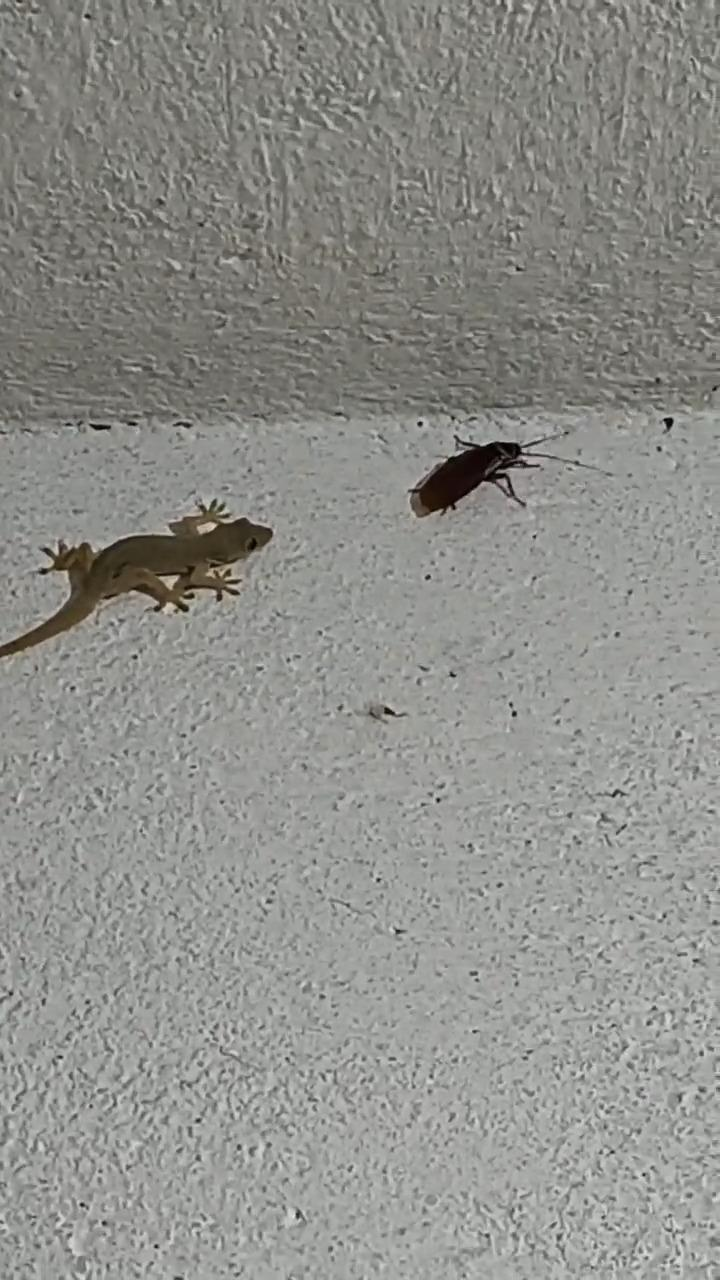cockroach: (396, 428, 597, 526)
lizard: (0, 486, 277, 664)
